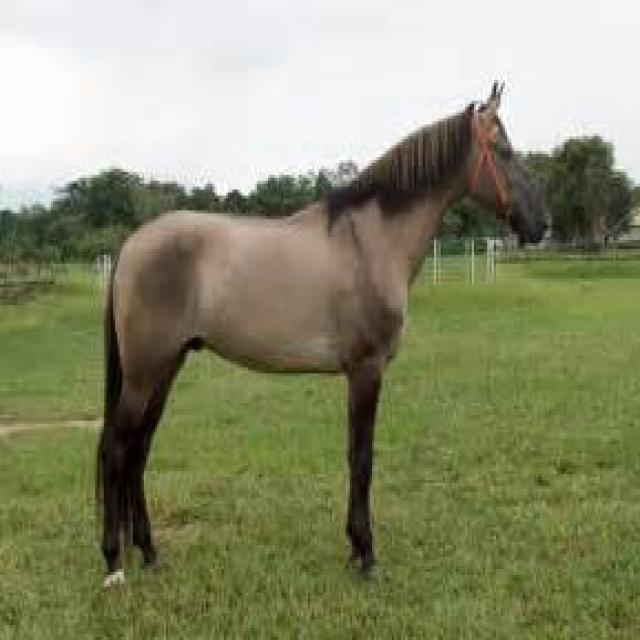horse: (99, 89, 545, 578)
